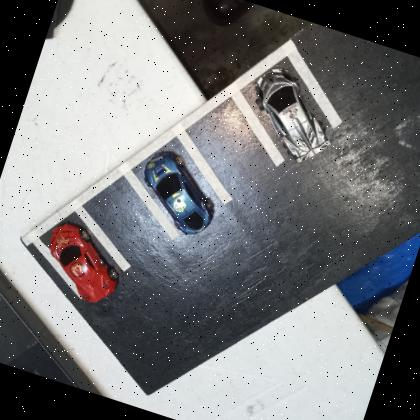Car: (236, 62, 349, 172), (126, 144, 229, 242), (34, 217, 133, 310)
